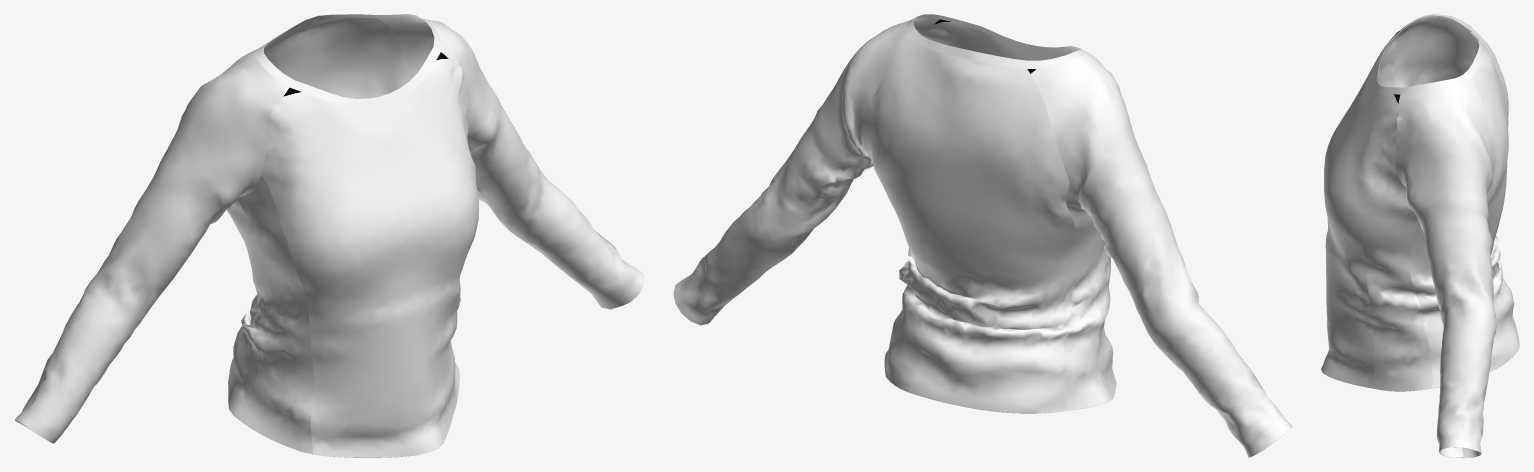
File: coatFemale.glb
3 renders of one model, left to right at view 1: azimuth 30°, elevation 25°; view 2: azimuth 150°, elevation 25°; view 3: azimuth 270°, elevation 25°, orthographic. The views are drawn at different scales.
Parts seen in each view (by area): view 1: coat; view 2: coat; view 3: coat.
Part boxes in pixels (<box>): coat: <box>15,14,644,457</box>; coat: <box>673,14,1292,457</box>; coat: <box>1321,14,1519,457</box>.
Size of the model in its own units: 9.21 by 5.31 by 3.
1 material, 1 textured.
